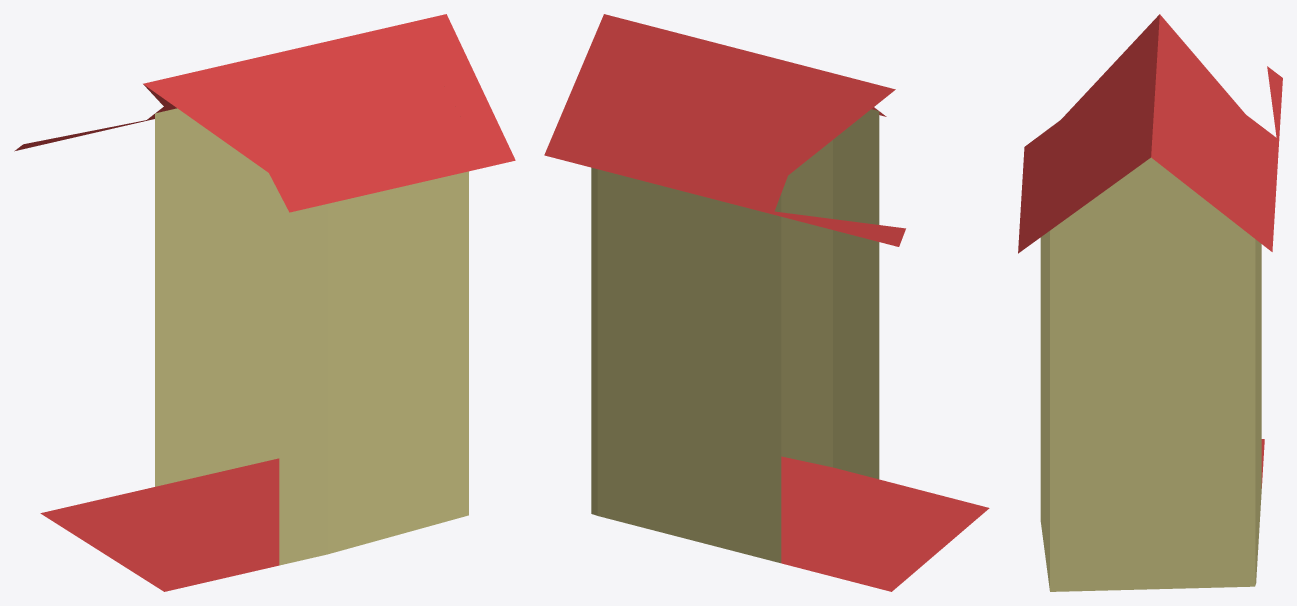
3 renders of one model, left to right at view 1: azimuth 30°, elevation 25°; view 2: azimuth 150°, elevation 25°; view 3: azimuth 270°, elevation 25°, orthographic.
Bounding box in the file's own units: 11.78 × 7.5 × 14.01.
